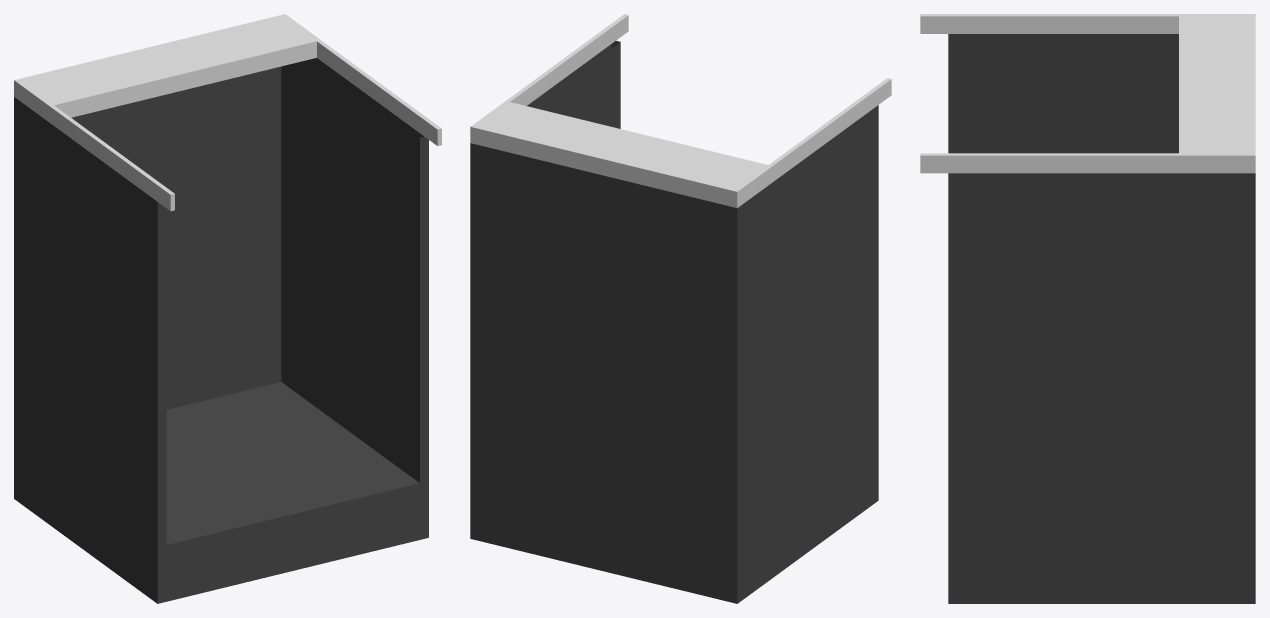
File: Kitchen1_C3_06.fbx
3 views of the same model, side by side, from view 1: azimuth 30°, elevation 25°; view 2: azimuth 150°, elevation 25°; view 3: azimuth 270°, elevation 25° (orthographic). The views are drawn at different scales.
Visible parts, largest first — view 1: Kitchen1_C3_06; view 2: Kitchen1_C3_06; view 3: Kitchen1_C3_06.
Part boxes in pixels (box(x1,y1,x2,y2)): Kitchen1_C3_06: box(14, 14, 441, 603); Kitchen1_C3_06: box(470, 14, 891, 603); Kitchen1_C3_06: box(920, 14, 1255, 603).
Bounding box in the file's own units: 60 × 88.5 × 60.
